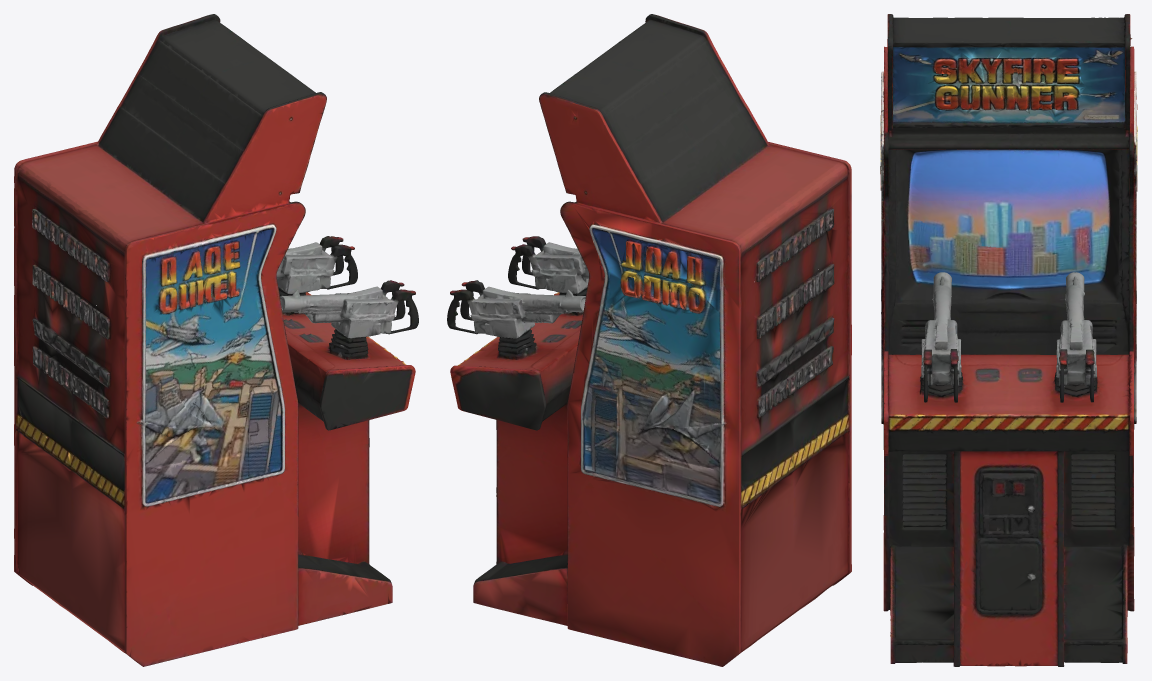
Rendered from arc-machinegun.glb.
The picture shows the model from 3 angles, left to right: view 1: azimuth 30°, elevation 25°; view 2: azimuth 150°, elevation 25°; view 3: azimuth 270°, elevation 25°; orthographic projection. The views are drawn at different scales.
Visible parts, largest first — view 1: tripo_node_be0a1527-a9ab-47ab-b3f9-48e123e6c899; view 2: tripo_node_be0a1527-a9ab-47ab-b3f9-48e123e6c899; view 3: tripo_node_be0a1527-a9ab-47ab-b3f9-48e123e6c899.
Boxes of the visible parts, x1,y1,x2,y2 form: tripo_node_be0a1527-a9ab-47ab-b3f9-48e123e6c899: [14, 14, 418, 666]; tripo_node_be0a1527-a9ab-47ab-b3f9-48e123e6c899: [447, 14, 851, 666]; tripo_node_be0a1527-a9ab-47ab-b3f9-48e123e6c899: [880, 14, 1137, 666].
Size of the model in its own units: 0.6167 by 0.9997 by 0.3959.
1 material, 1 textured.
